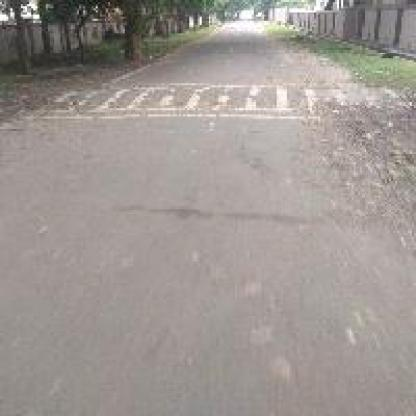Speed Bump: (31, 79, 318, 123)
